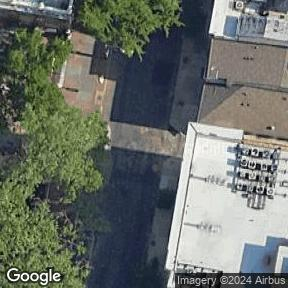vegetation: (0, 29, 109, 288)
